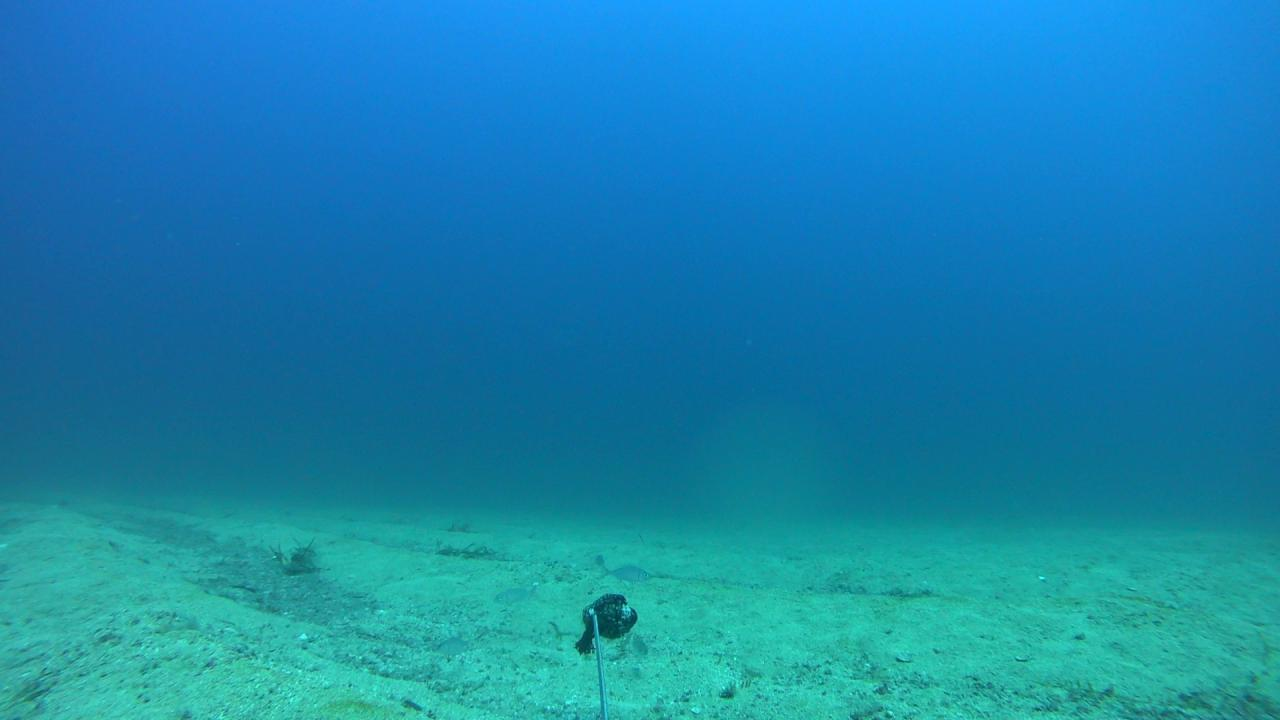pagellus: (429, 631, 485, 661), (595, 563, 651, 584), (492, 584, 543, 606)
